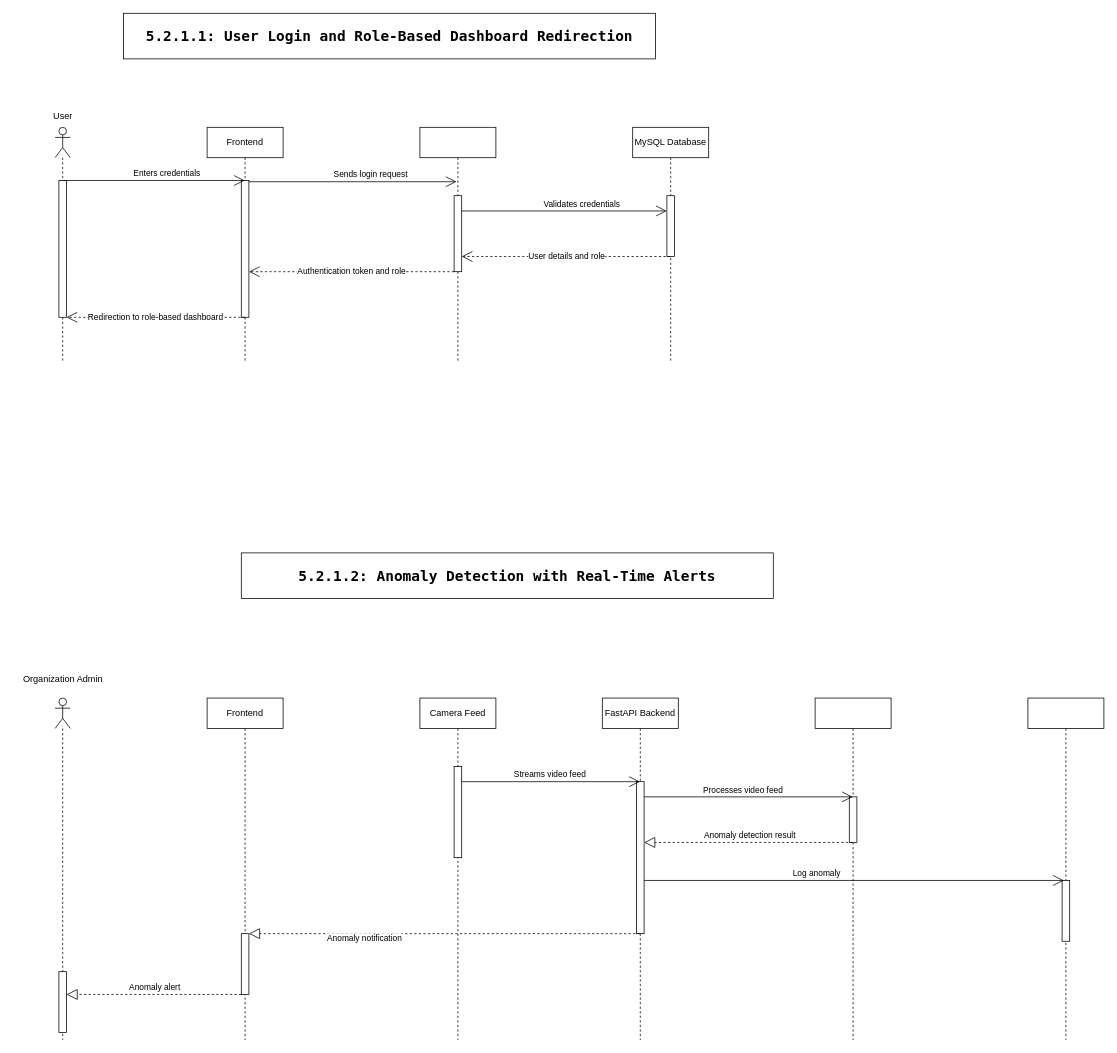
This 1117x1053 diagram has some shape labels left out. The box of each missing label's shape, as (x1, y1, x2, y2) in pixels:
Deep Learning Model: (814, 697, 891, 1040)
MongoDB: (1027, 697, 1104, 1040)
Node.js Backend: (419, 127, 496, 363)
